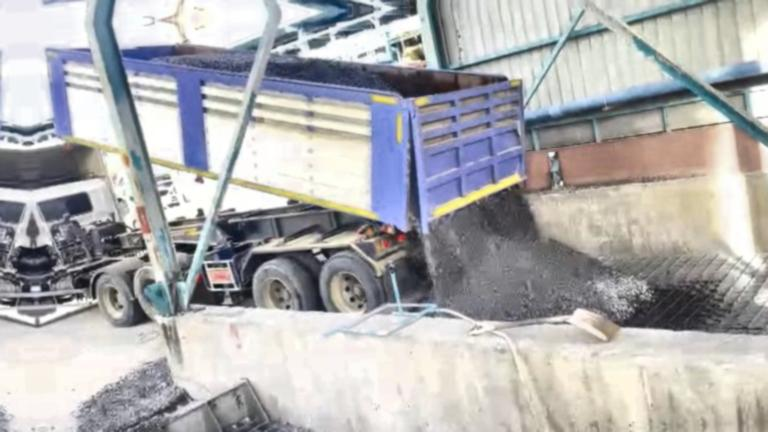gravel: (423, 188, 652, 320), (45, 359, 193, 432), (266, 55, 399, 93), (154, 52, 255, 74)
